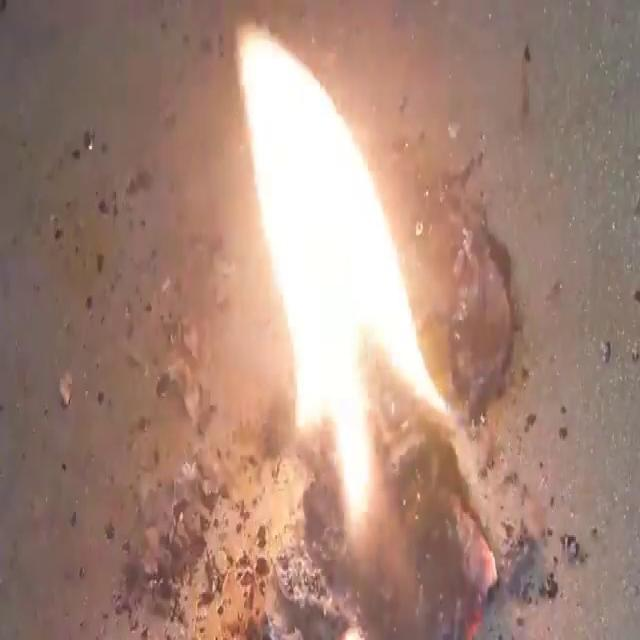Fire: (4, 6, 635, 636), (231, 19, 457, 538)
